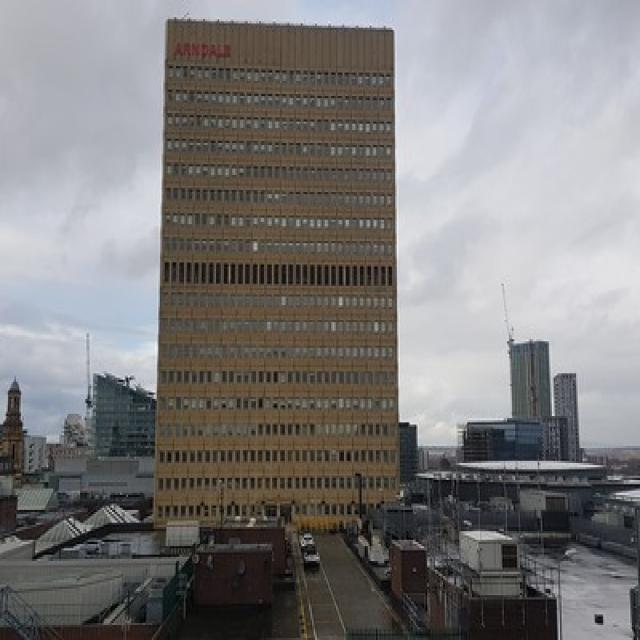building: (157, 18, 406, 549)
